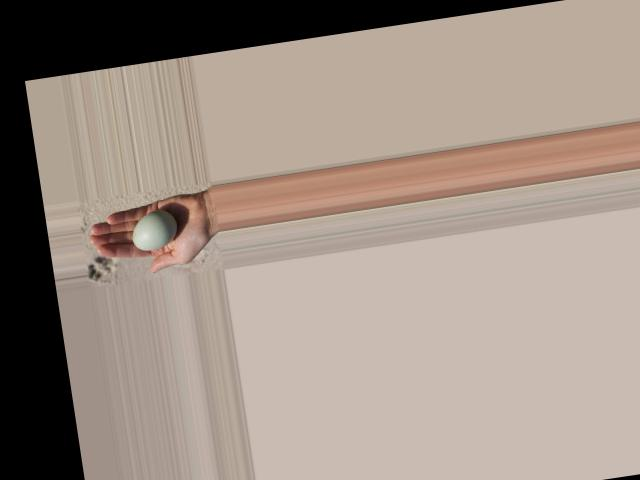egg: (129, 207, 178, 251)
